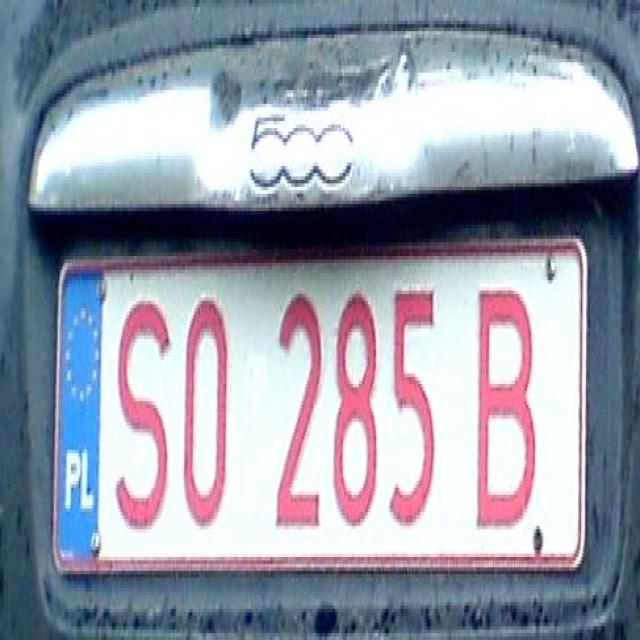pl_license_plate: (57, 242, 582, 561)
